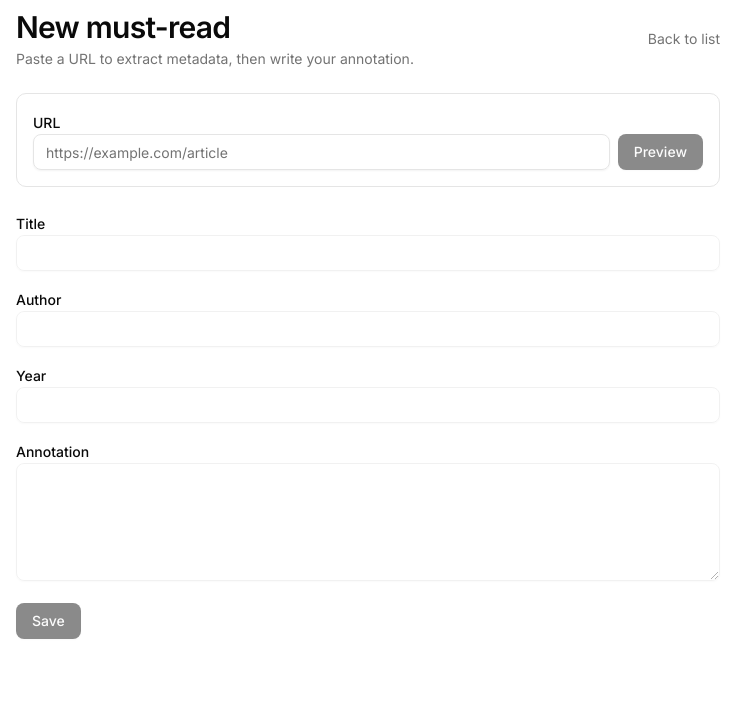
Test: AdminMustReadEditPage — create flow (REQ-029) › shows duplicate-URL inline message with link on 409 (REQ-031 / EDGE-006)
This screenshot has width=737, height=718.
Type "https://dup.com" into the field labelled "URL". click: (321, 152)
box: x1=33 y1=134 x2=610 y2=170
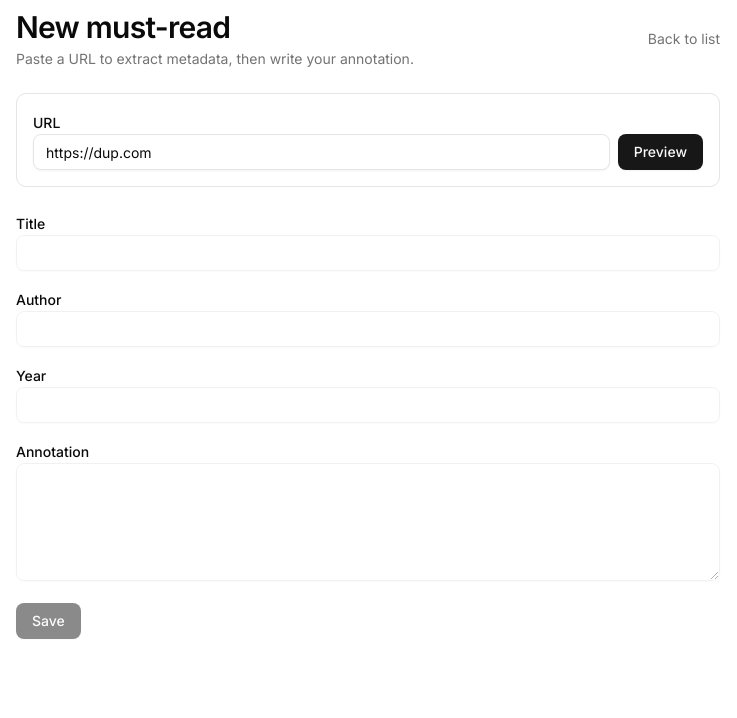
Click the button "Preview". click: (660, 152)
box: x1=618 y1=134 x2=703 y2=170
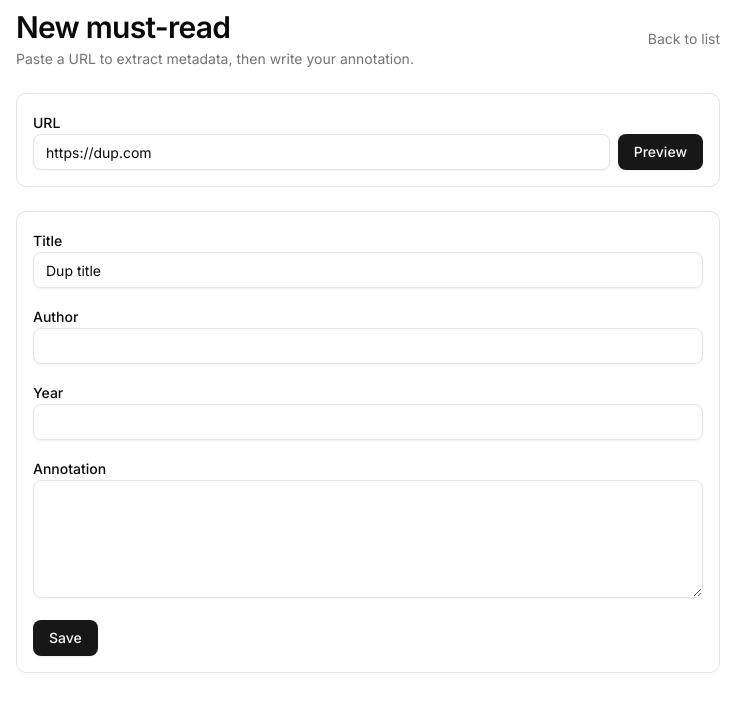
Expected: the field labelled "Title" holds "Dup title", x1=33 y1=252 x2=703 y2=288
Type "An annotation." into the text box labelled "Annotation". click: (368, 539)
box: x1=33 y1=480 x2=703 y2=598
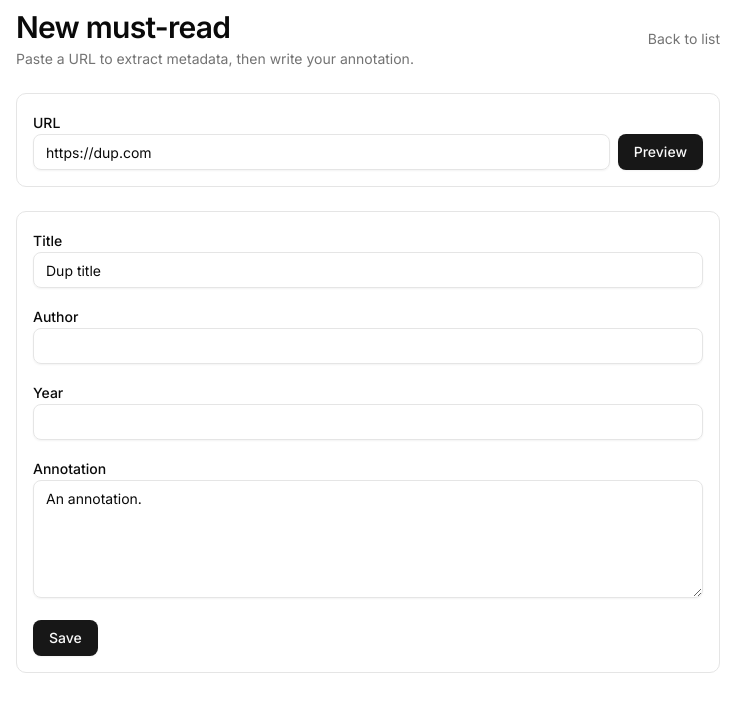
Click the button "Save". click: (65, 638)
box: x1=33 y1=620 x2=98 y2=656
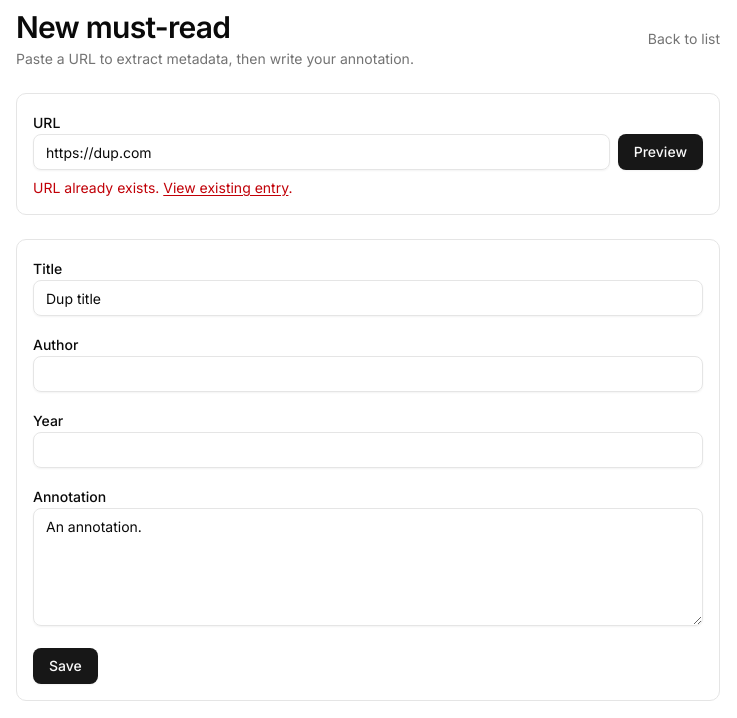
Expected: the text "URL already exists. View existing entry ." is shown, x1=33 y1=179 x2=292 y2=196
